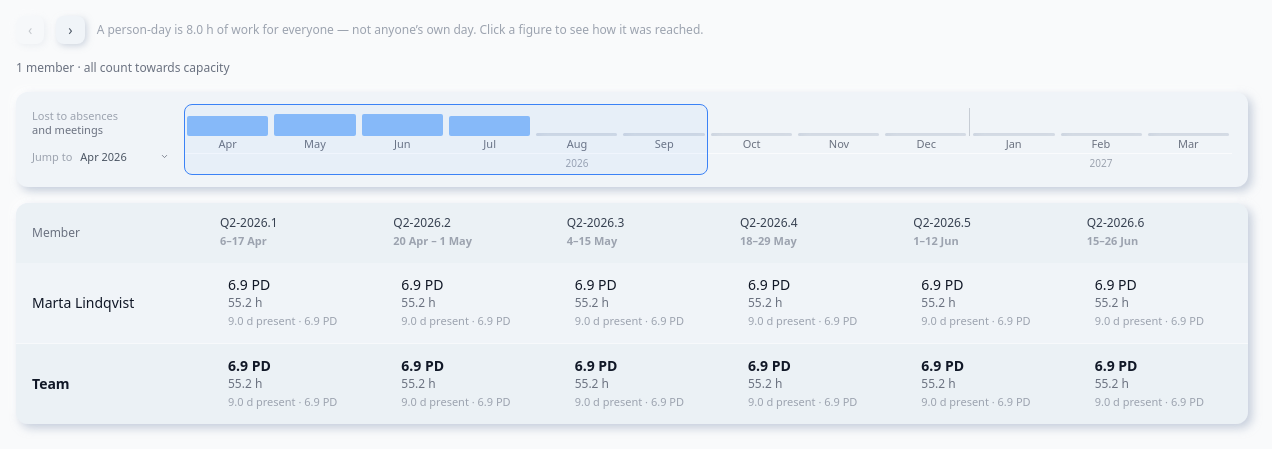
Test: TeamCapacityView minimap › lands on the nearest sprint for a month the calendar does not reach
The image size is (1272, 449).
Expected: the column heading "Marta Lindqvist" is shown, [16,262,208,343]
Click the button named "Show Feb 2027": (1101, 122) [1058,108,1145,136]
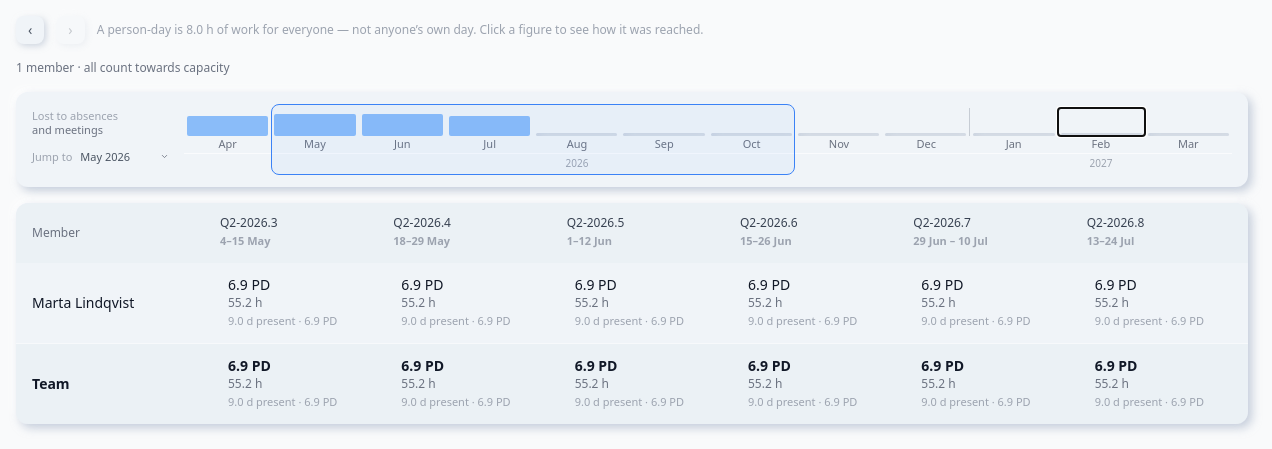
Expected: the text "Q2-2026.8" is shown, [1087,214,1144,230]
Expected: the button named "Showing May 2026 to Oct 2026" is shown, [271,104,795,174]
